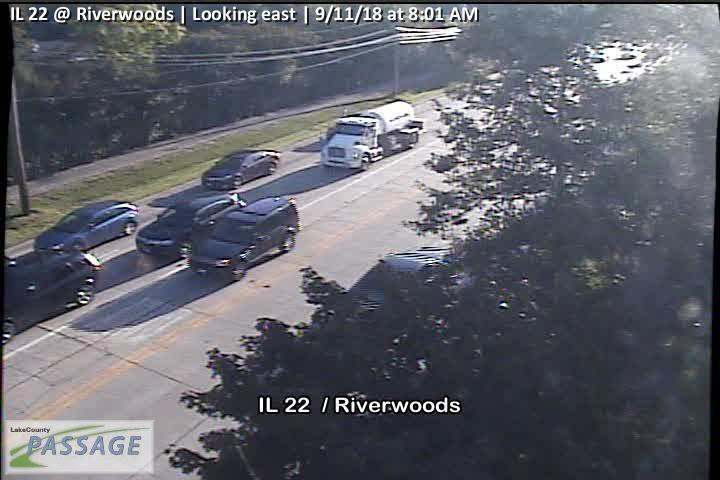SUV: (1, 248, 102, 344), (187, 196, 302, 280), (135, 192, 245, 258)
Sedan: (34, 199, 140, 252), (201, 148, 281, 189)
Truck: (322, 99, 424, 171)
